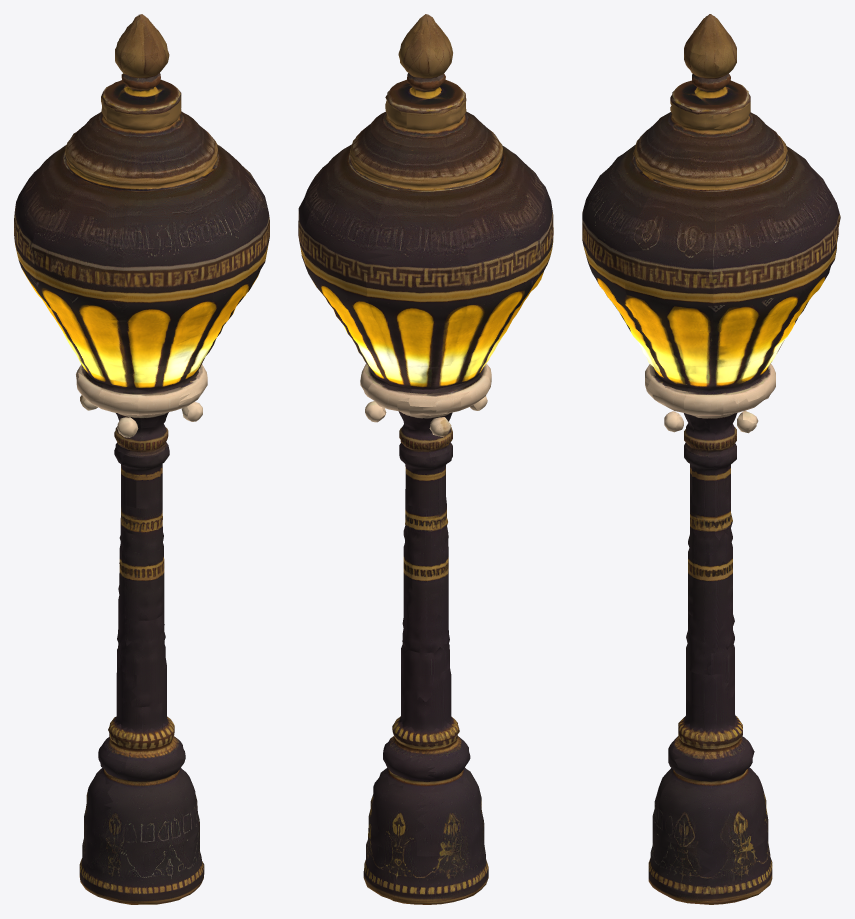
File: s1_quality_lamp.glb
The picture shows the model from 3 angles, left to right: view 1: azimuth 30°, elevation 25°; view 2: azimuth 150°, elevation 25°; view 3: azimuth 270°, elevation 25°; orthographic projection.
Bounding box in the file's own units: 0.5205 × 1.91 × 0.5166.
1 material, 1 textured.
